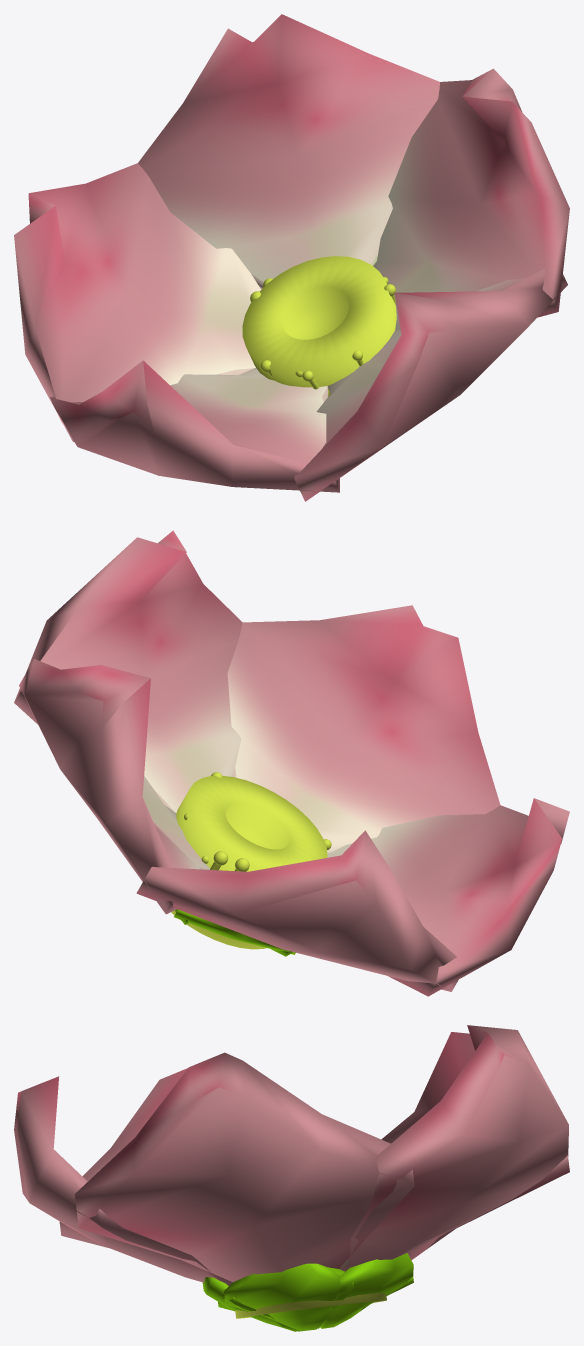
Rendered from flower2.glb.
3 renders of one model, top to bottom at view 1: azimuth 30°, elevation 25°; view 2: azimuth 150°, elevation 25°; view 3: azimuth 270°, elevation 25°, orthographic.
Visible parts, largest first — view 1: Cube, Cylinder, Cylinder.001; view 2: Cube, Cylinder, Cube.001, Cylinder.001; view 3: Cube, Cube.001, Cylinder.
Part boxes in pixels (x1,y1,x2,y2): Cube: (14,14,569,501); Cylinder: (242,256,396,396); Cylinder.001: (250,277,395,389); Cube: (14,530,569,996); Cylinder: (171,776,327,949); Cube.001: (174,834,295,956); Cylinder.001: (184,772,331,871); Cube: (14,1025,569,1285); Cube.001: (202,1253,413,1331); Cylinder: (235,1292,386,1318).
Size of the model in its own units: 0.8131 by 0.5744 by 0.8648.
3 materials, 1 textured.
